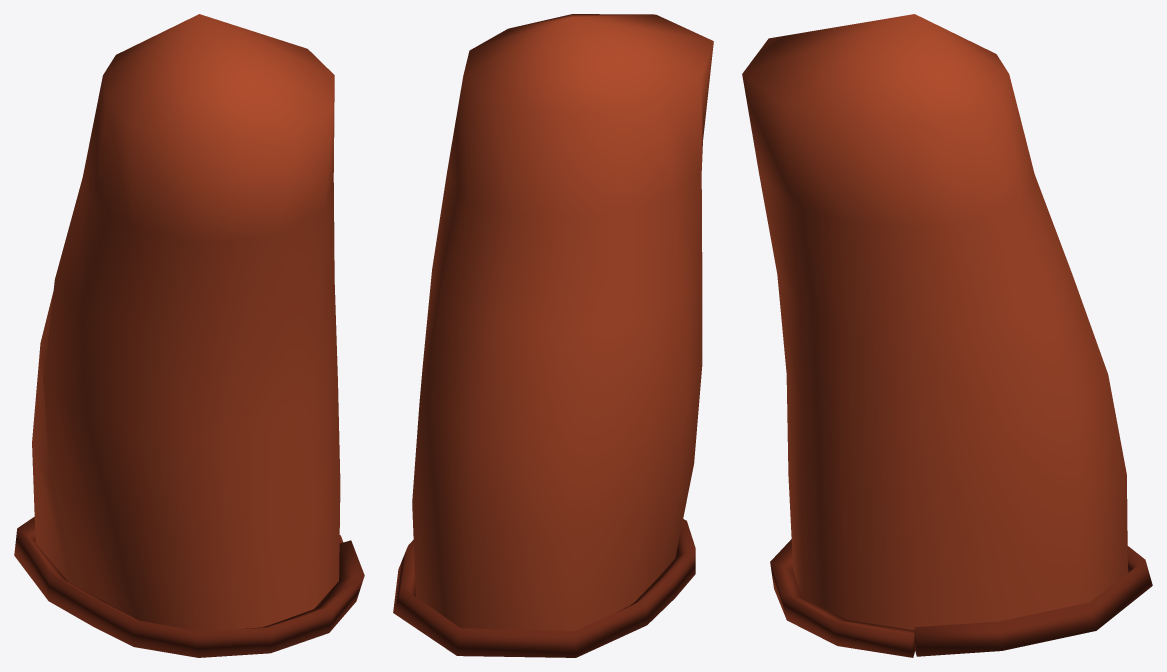
The model's file is meteor_armor_boot.R.glb.
3 views of the same model, side by side, from view 1: azimuth 30°, elevation 25°; view 2: azimuth 150°, elevation 25°; view 3: azimuth 270°, elevation 25° (orthographic). The views are drawn at different scales.
Visible parts, largest first — view 1: meteor_armor_boot.R; view 2: meteor_armor_boot.R; view 3: meteor_armor_boot.R.
Part boxes in pixels (<box>): meteor_armor_boot.R: <box>14,14,364,657</box>; meteor_armor_boot.R: <box>393,14,713,657</box>; meteor_armor_boot.R: <box>742,14,1152,657</box>.
Bounding box in the file's own units: 0.1433 × 0.2958 × 0.1912.
